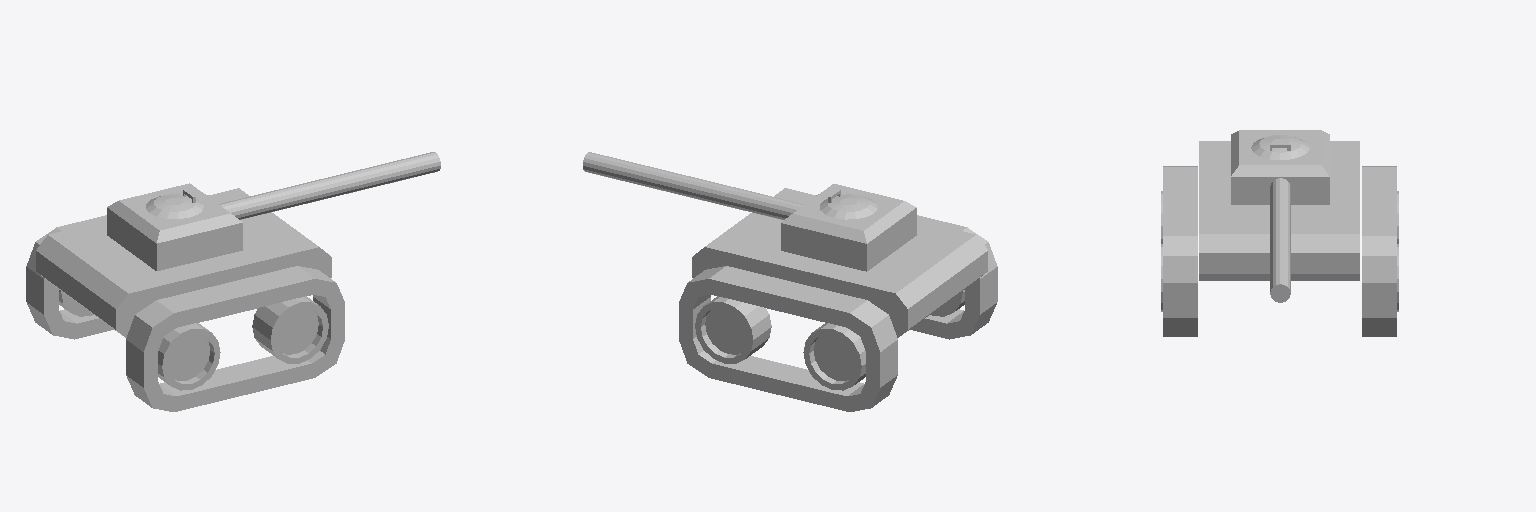
File: tank.obj
3 views of the same model, side by side, from view 1: azimuth 30°, elevation 25°; view 2: azimuth 150°, elevation 25°; view 3: azimuth 270°, elevation 25° (orthographic).
Visible parts, largest first — view 1: Tank; view 2: Tank; view 3: Tank.
Part boxes in pixels (x1,y1,x2,y2): Tank: (26, 152, 440, 411); Tank: (583, 152, 997, 411); Tank: (1161, 130, 1398, 336).
Size of the model in its own units: 5.95 by 2.5 by 3.41.